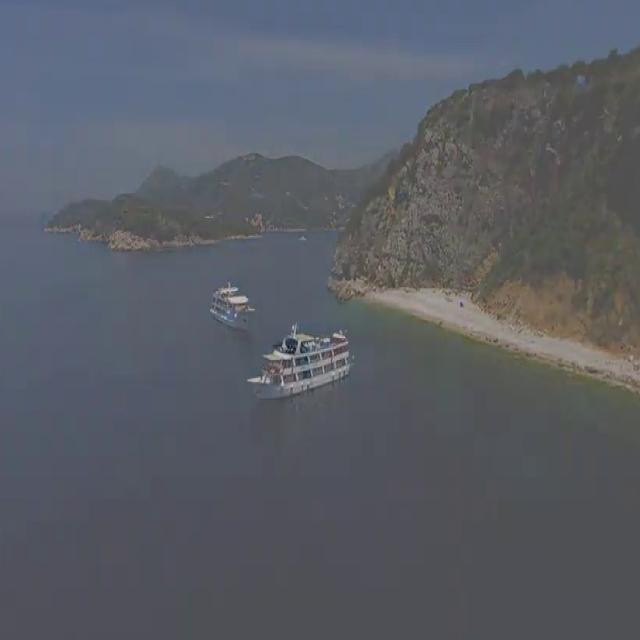passenger ship: (246, 326, 354, 408), (208, 277, 255, 329)
